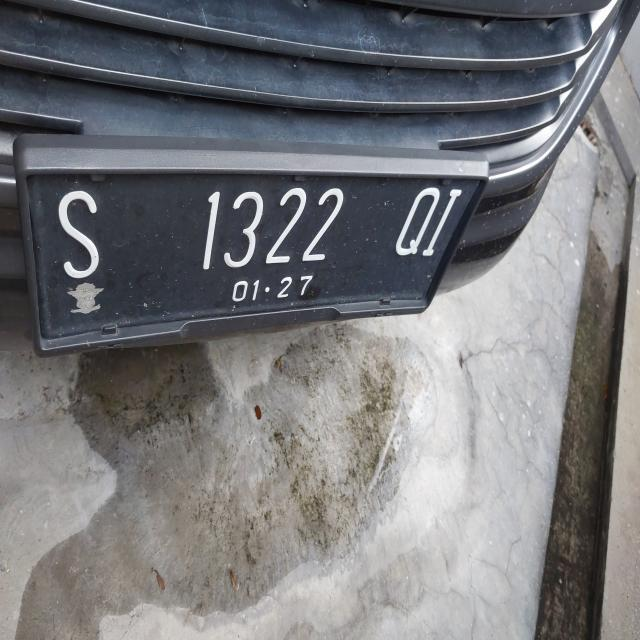1: (188, 163, 226, 280)
2: (299, 172, 349, 274), (261, 176, 305, 280)
3: (220, 172, 266, 284)
I: (421, 174, 462, 268)
Q: (386, 165, 444, 258)
S: (41, 175, 108, 305)
